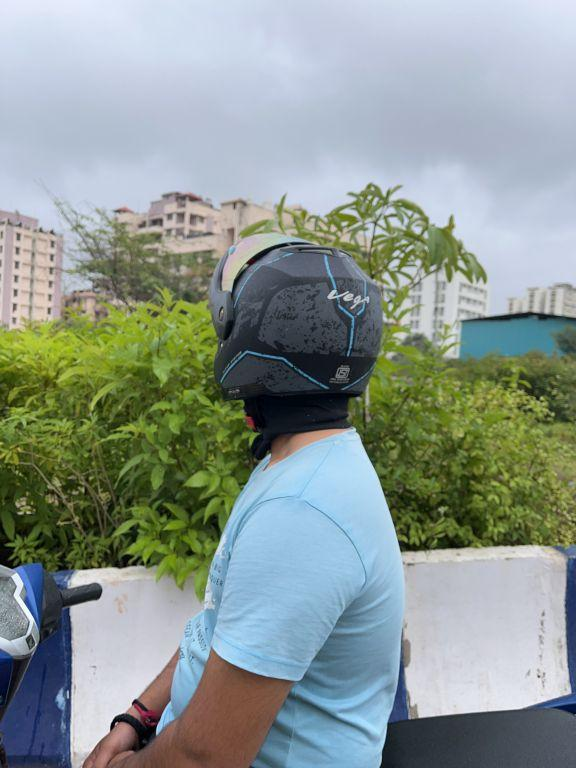helmet: (192, 222, 389, 435)
